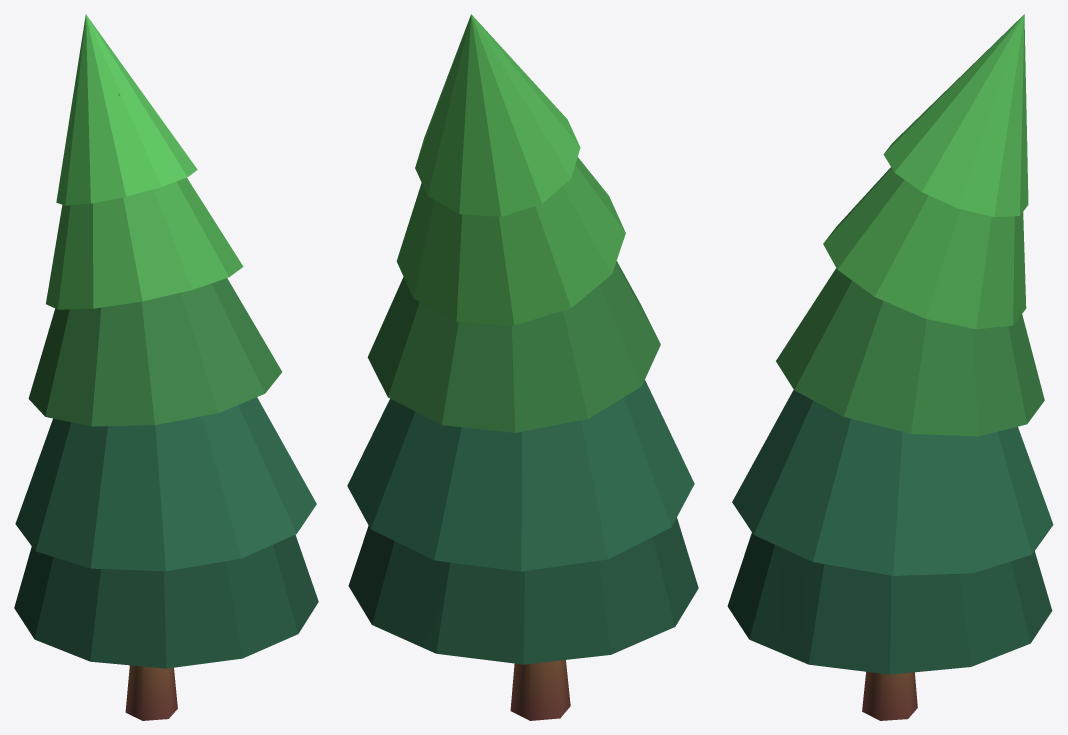
Rendered from Low_Poly_Forest_treeTall04.glb.
The picture shows the model from 3 angles, left to right: view 1: azimuth 30°, elevation 25°; view 2: azimuth 150°, elevation 25°; view 3: azimuth 270°, elevation 25°; orthographic projection. The views are drawn at different scales.
Visible parts, largest first — view 1: leaf_4, leaf_5, leaf_3, leaf_2, leaf, bark; view 2: leaf_4, leaf_5, leaf_3, leaf_2, leaf, bark; view 3: leaf_4, leaf_5, leaf_3, leaf_2, leaf, bark.
Boxes of the visible parts, x1,y1,x2,y2 form: leaf_4: (15,397,316,571); leaf_5: (14,534,318,668); leaf_3: (28,93,281,426); leaf_2: (46,177,243,309); leaf: (56,14,197,205); bark: (125,665,177,720); leaf_4: (347,380,694,571); leaf_5: (348,518,698,664); leaf_3: (367,261,660,432); leaf_2: (396,157,625,325); leaf: (415,14,580,216); bark: (510,660,570,720); leaf_4: (732,390,1053,575); leaf_5: (727,533,1052,674); leaf_3: (776,77,1044,436); leaf_2: (823,167,1026,329); leaf: (883,14,1028,217); bark: (862,671,917,720).
Bounding box in the file's own units: 4.33 × 10.2 × 4.34.
1 material, 1 textured.
